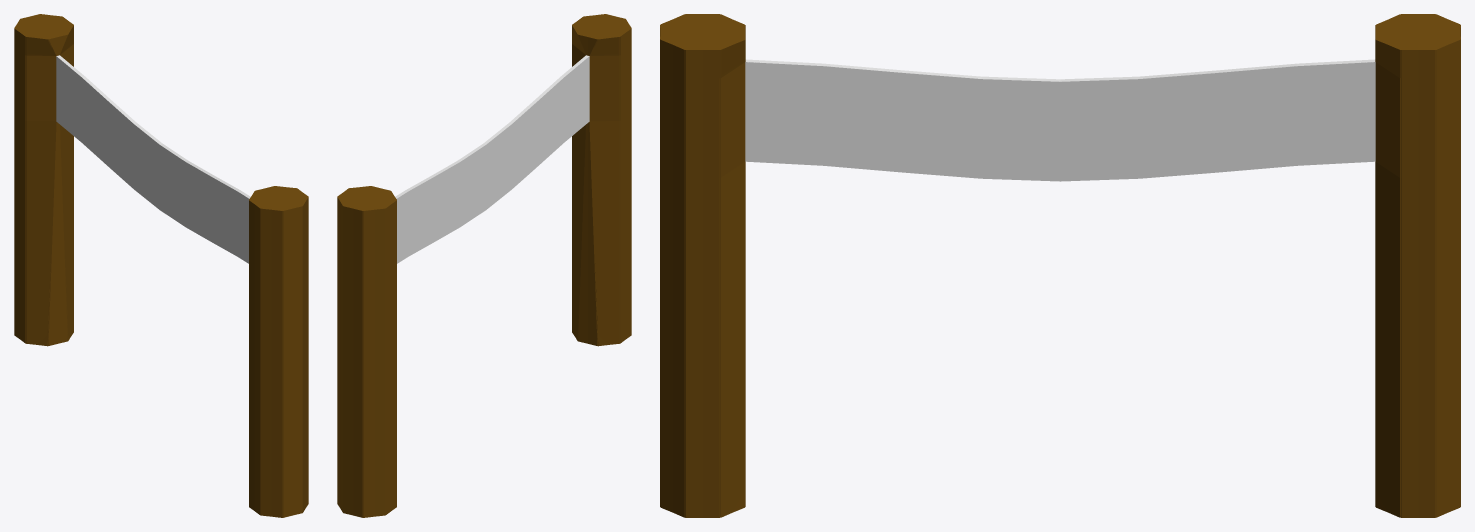
File: finishline.fbx
3 renders of one model, left to right at view 1: azimuth 30°, elevation 25°; view 2: azimuth 150°, elevation 25°; view 3: azimuth 270°, elevation 25°, orthographic. The views are drawn at different scales.
Parts seen in each view (by area): view 1: Finish Line; view 2: Finish Line; view 3: Finish Line.
Part boxes in pixels (bbox=[...]): Finish Line: bbox=[14, 14, 308, 517]; Finish Line: bbox=[337, 14, 631, 517]; Finish Line: bbox=[660, 14, 1460, 517].
Bounding box in the file's own units: 186 × 1123 × 1743.
2 materials, 1 textured.
